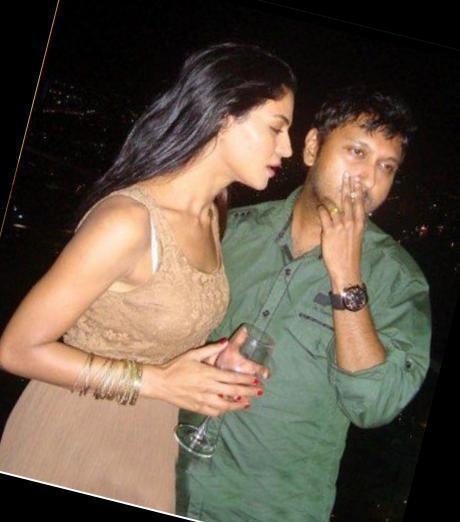Drunk: (315, 118, 398, 215), (238, 84, 296, 192)
